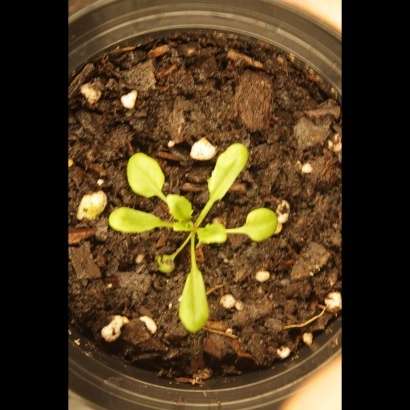leaf: (204, 134, 250, 211), (101, 199, 163, 245), (177, 265, 210, 336), (238, 199, 282, 252), (125, 149, 166, 199), (149, 243, 184, 280), (166, 190, 194, 230), (195, 219, 233, 248)
